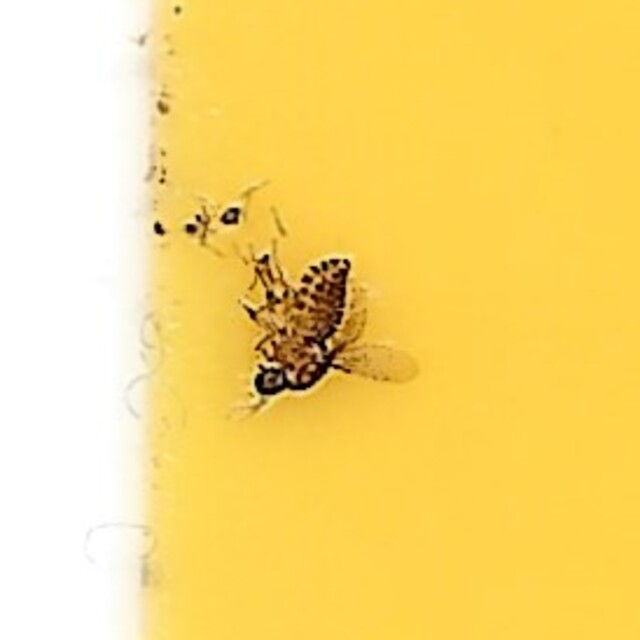Brachycera: (234, 234, 406, 406)
